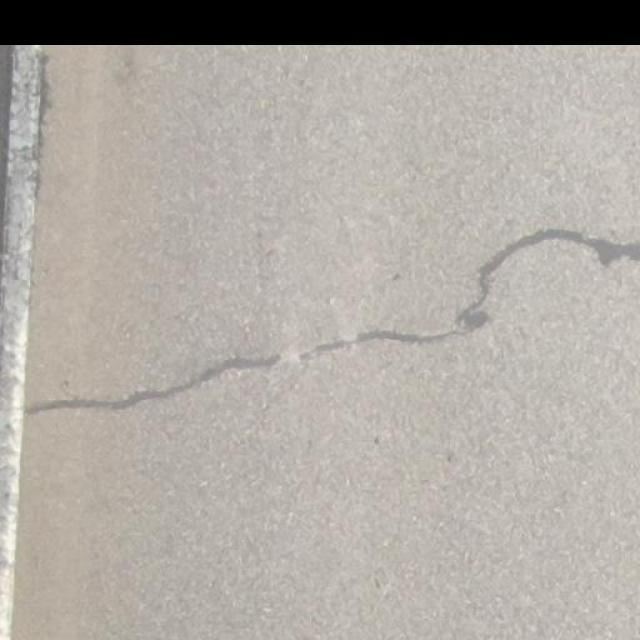GRIETA: (299, 229, 639, 360), (26, 354, 284, 414)
